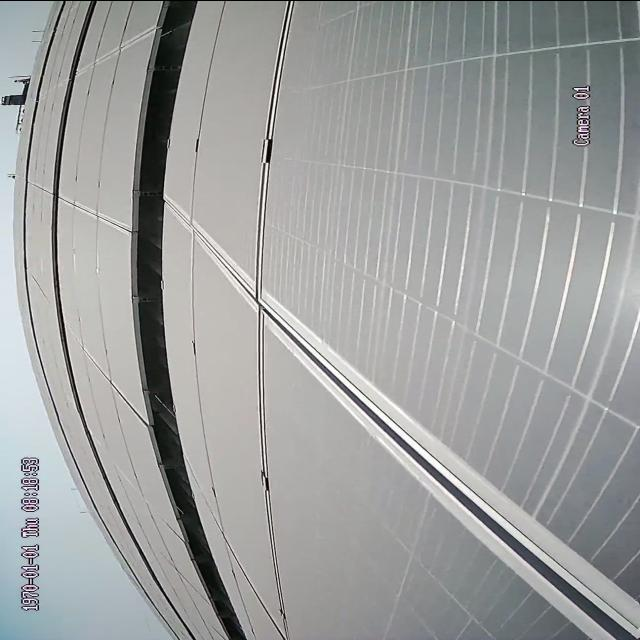interior panel: (168, 3, 638, 637), (76, 330, 140, 426), (83, 21, 152, 73), (60, 193, 125, 234)
outher panel: (133, 1, 249, 639)
